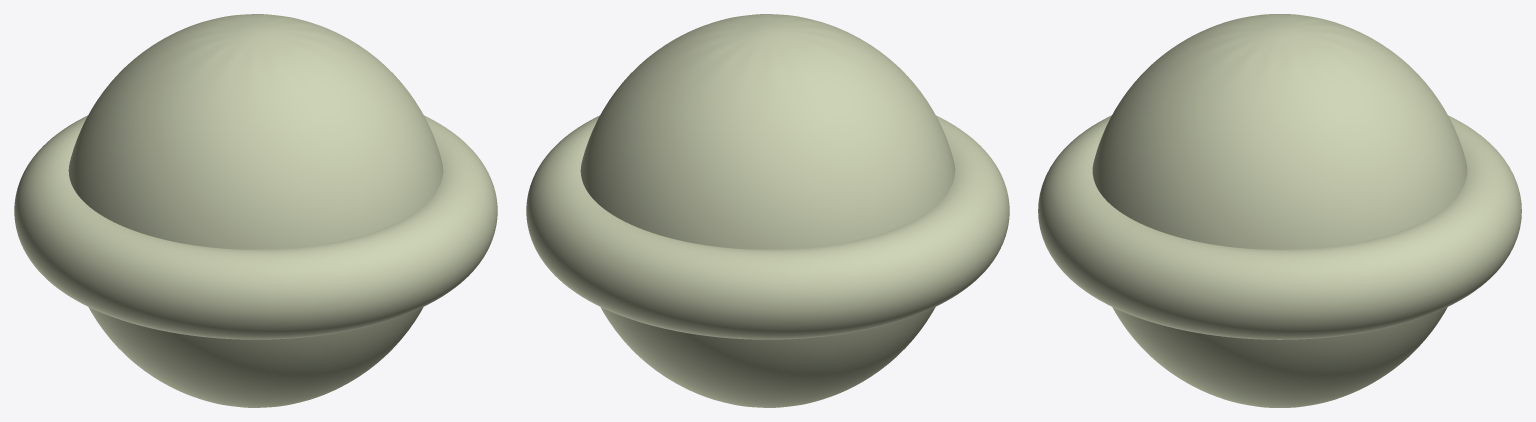
3 renders of one model, left to right at view 1: azimuth 30°, elevation 25°; view 2: azimuth 150°, elevation 25°; view 3: azimuth 270°, elevation 25°, orthographic.
Visible parts, largest first — view 1: sphere7-0, Torus8-0; view 2: sphere7-0, Torus8-0; view 3: sphere7-0, Torus8-0.
Boxes of the visible parts, x1=… form: sphere7-0: x1=68, y1=14, x2=443, y2=407; Torus8-0: x1=14, y1=115, x2=497, y2=339; sphere7-0: x1=580, y1=14, x2=955, y2=407; Torus8-0: x1=526, y1=115, x2=1009, y2=339; sphere7-0: x1=1092, y1=14, x2=1467, y2=407; Torus8-0: x1=1038, y1=115, x2=1521, y2=339.
Size of the model in its own units: 2.39 by 1.97 by 2.39.
